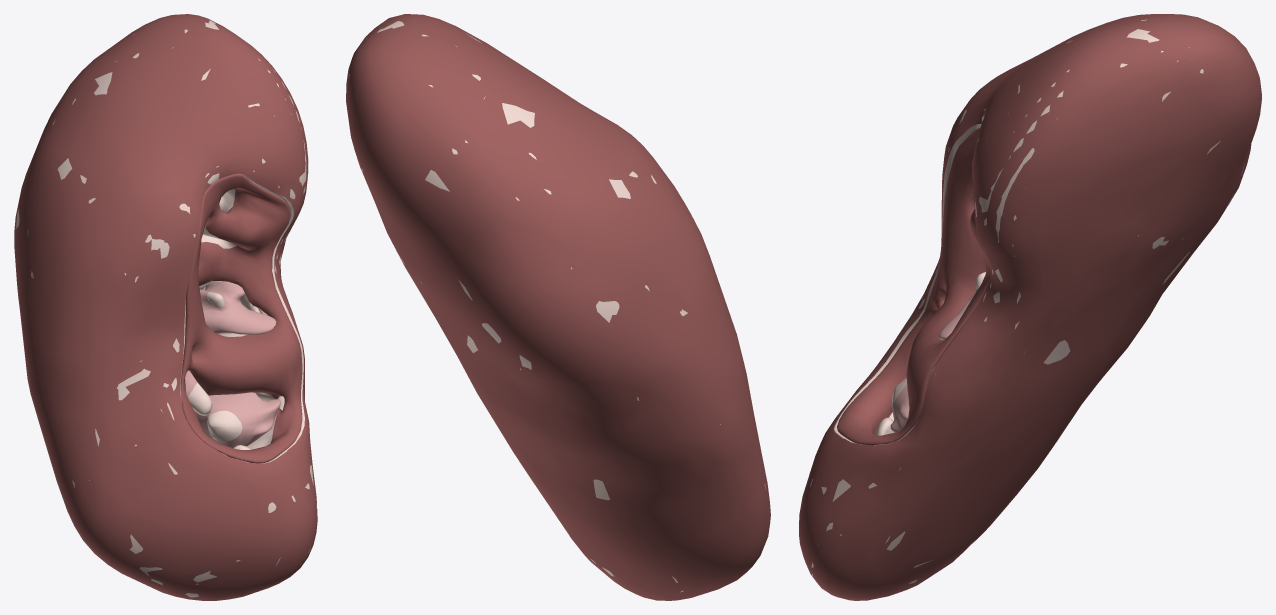
Rendered from VH_M_Kidney_R.glb.
3 renders of one model, left to right at view 1: azimuth 30°, elevation 25°; view 2: azimuth 150°, elevation 25°; view 3: azimuth 270°, elevation 25°, orthographic. The views are drawn at different scales.
Bounding box in the file's own units: 0.0654 × 0.1125 × 0.0763.
